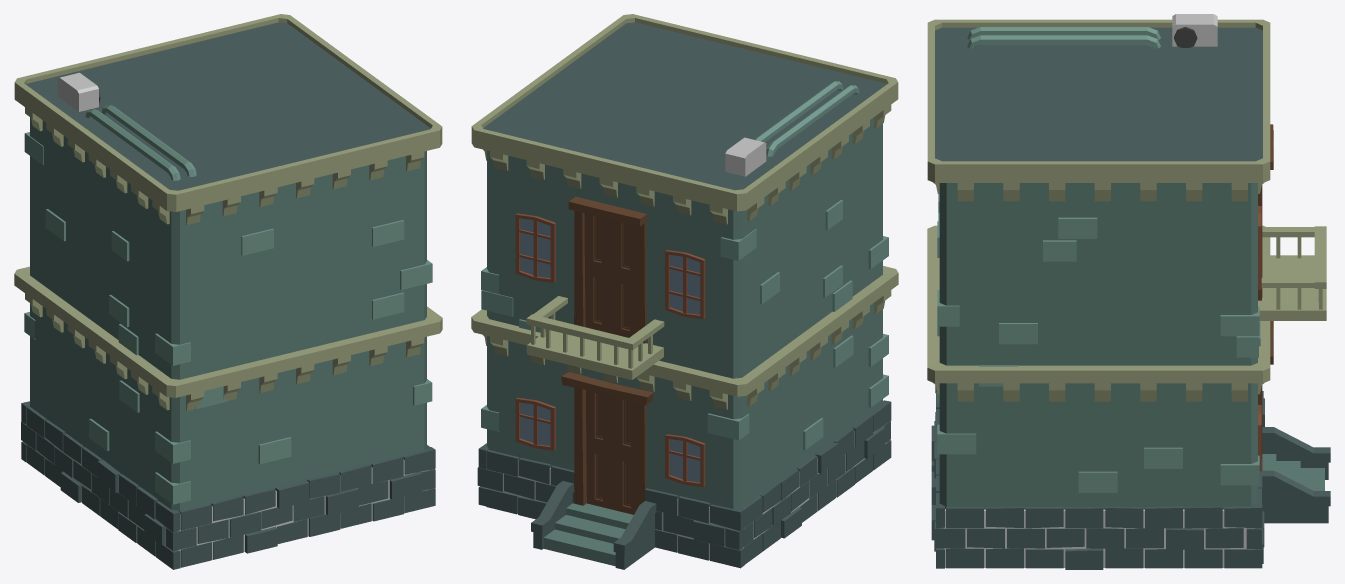
The model's file is 2Story_Balcony.glb.
The picture shows the model from 3 angles, left to right: view 1: azimuth 30°, elevation 25°; view 2: azimuth 150°, elevation 25°; view 3: azimuth 270°, elevation 25°; orthographic projection. The views are drawn at different scales.
Visible parts, largest first — view 1: 2Story_Balcony; view 2: 2Story_Balcony; view 3: 2Story_Balcony.
Boxes of the visible parts, bbox=[...] form: 2Story_Balcony: bbox=[14, 14, 442, 569]; 2Story_Balcony: bbox=[471, 14, 898, 569]; 2Story_Balcony: bbox=[927, 14, 1330, 569].
Bounding box in the file's own units: 2.16 × 2.94 × 2.53.
Materials: 1 (1 with a texture image).
